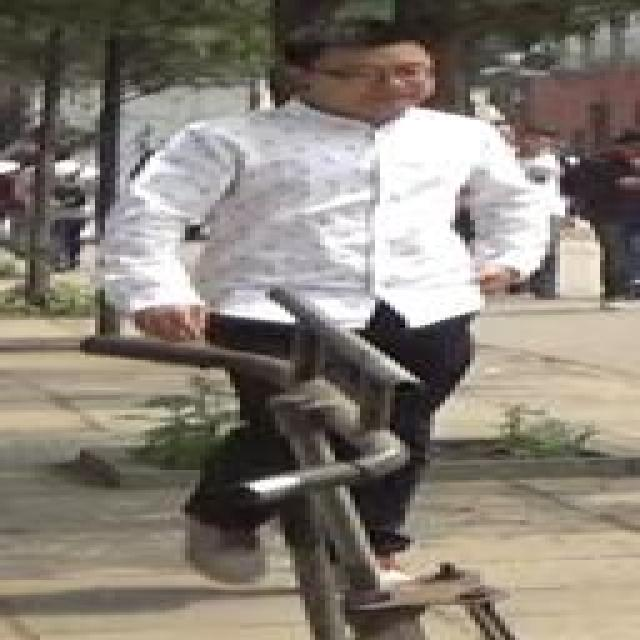adult: (89, 21, 544, 588), (498, 131, 580, 286), (594, 137, 640, 297)
